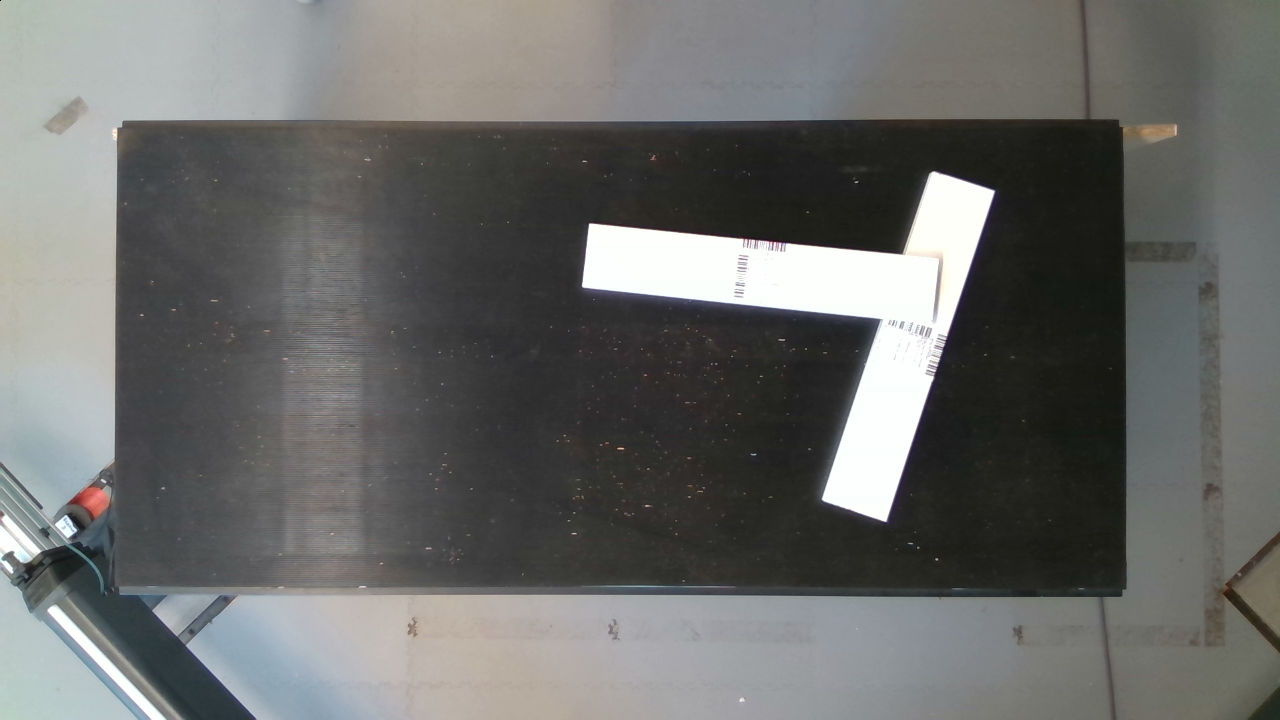barcode: (721, 224, 804, 310), (867, 310, 952, 386)
part1: (819, 156, 1005, 541), (574, 215, 952, 333)
